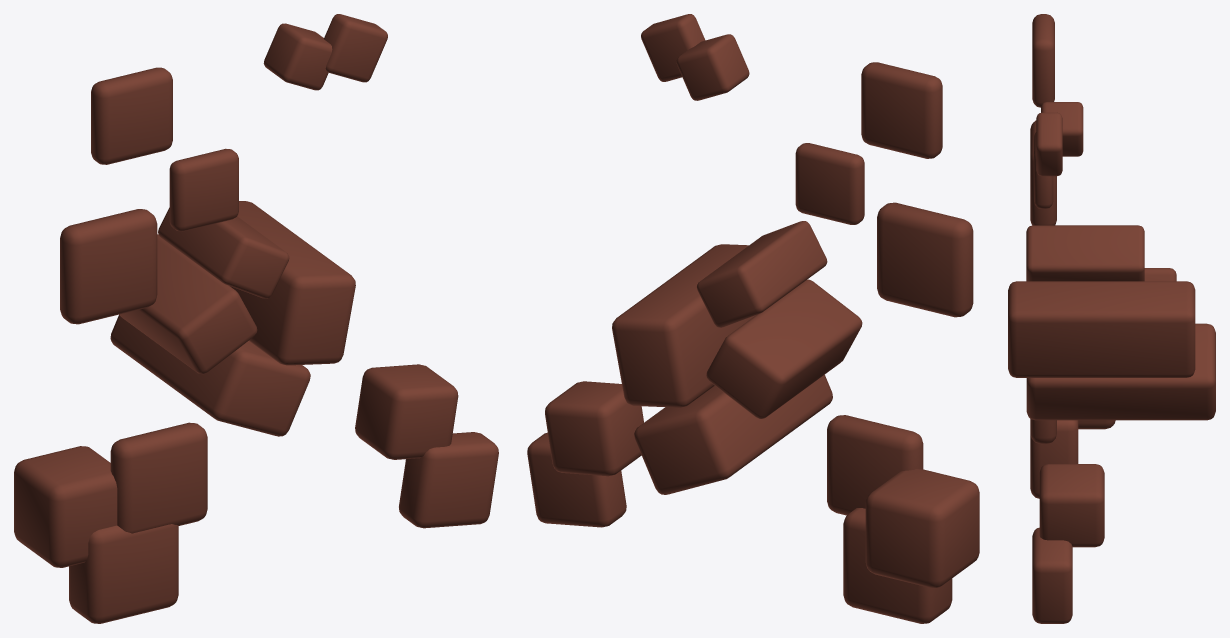
The model's file is Building_Rocks.fbx.
3 renders of one model, left to right at view 1: azimuth 30°, elevation 25°; view 2: azimuth 150°, elevation 25°; view 3: azimuth 270°, elevation 25°, orthographic. The views are drawn at different scales.
Parts seen in each view (by area): view 1: Building_Rocks; view 2: Building_Rocks; view 3: Building_Rocks.
Part boxes in pixels (left/top/right/bottom): Building_Rocks: left=14, top=14, right=498, bottom=623; Building_Rocks: left=527, top=14, right=979, bottom=623; Building_Rocks: left=1008, top=14, right=1215, bottom=623.
Bounding box in the file's own units: 1.03 × 1.2 × 0.4894.
